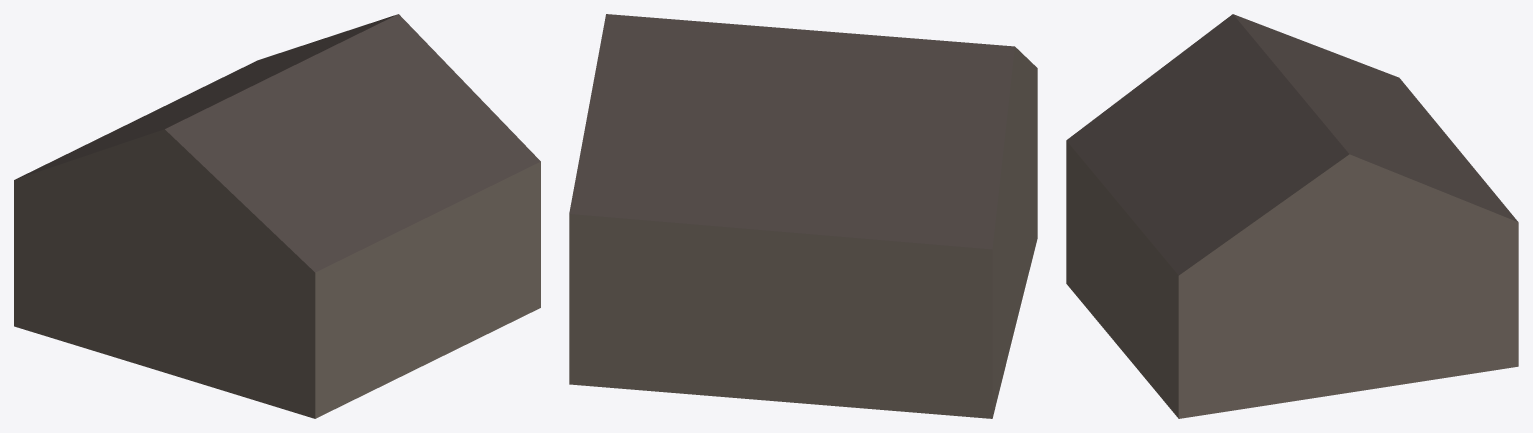
3 views of the same model, side by side, from view 1: azimuth 30°, elevation 25°; view 2: azimuth 150°, elevation 25°; view 3: azimuth 270°, elevation 25° (orthographic). The views are drawn at different scales.
Visible parts, largest first — view 1: HP-w1198667823; view 2: HP-w1198667823; view 3: HP-w1198667823.
Boxes of the visible parts, x1,y1,x2,y2 form: HP-w1198667823: (14,14,540,418); HP-w1198667823: (569,14,1037,418); HP-w1198667823: (1066,14,1518,418).
Bounding box in the file's own units: 17.77 × 9.98 × 17.16.
